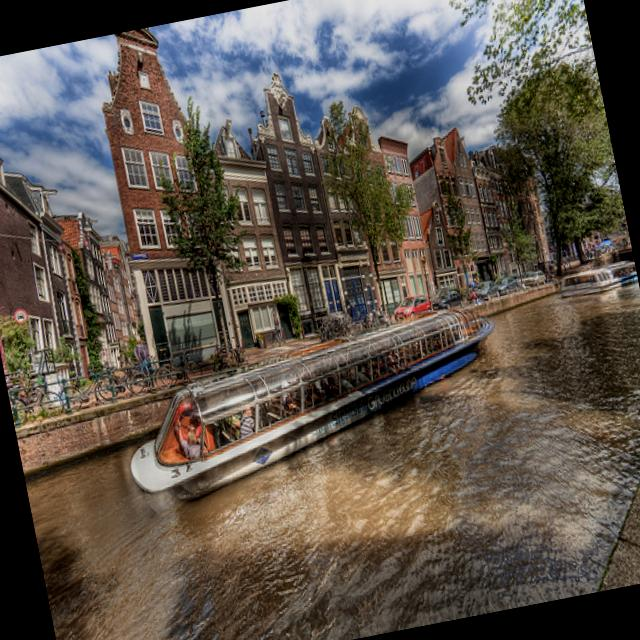Vehicle: (392, 292, 434, 322), (430, 285, 464, 313), (472, 278, 501, 304), (524, 268, 548, 289), (495, 275, 519, 295)
